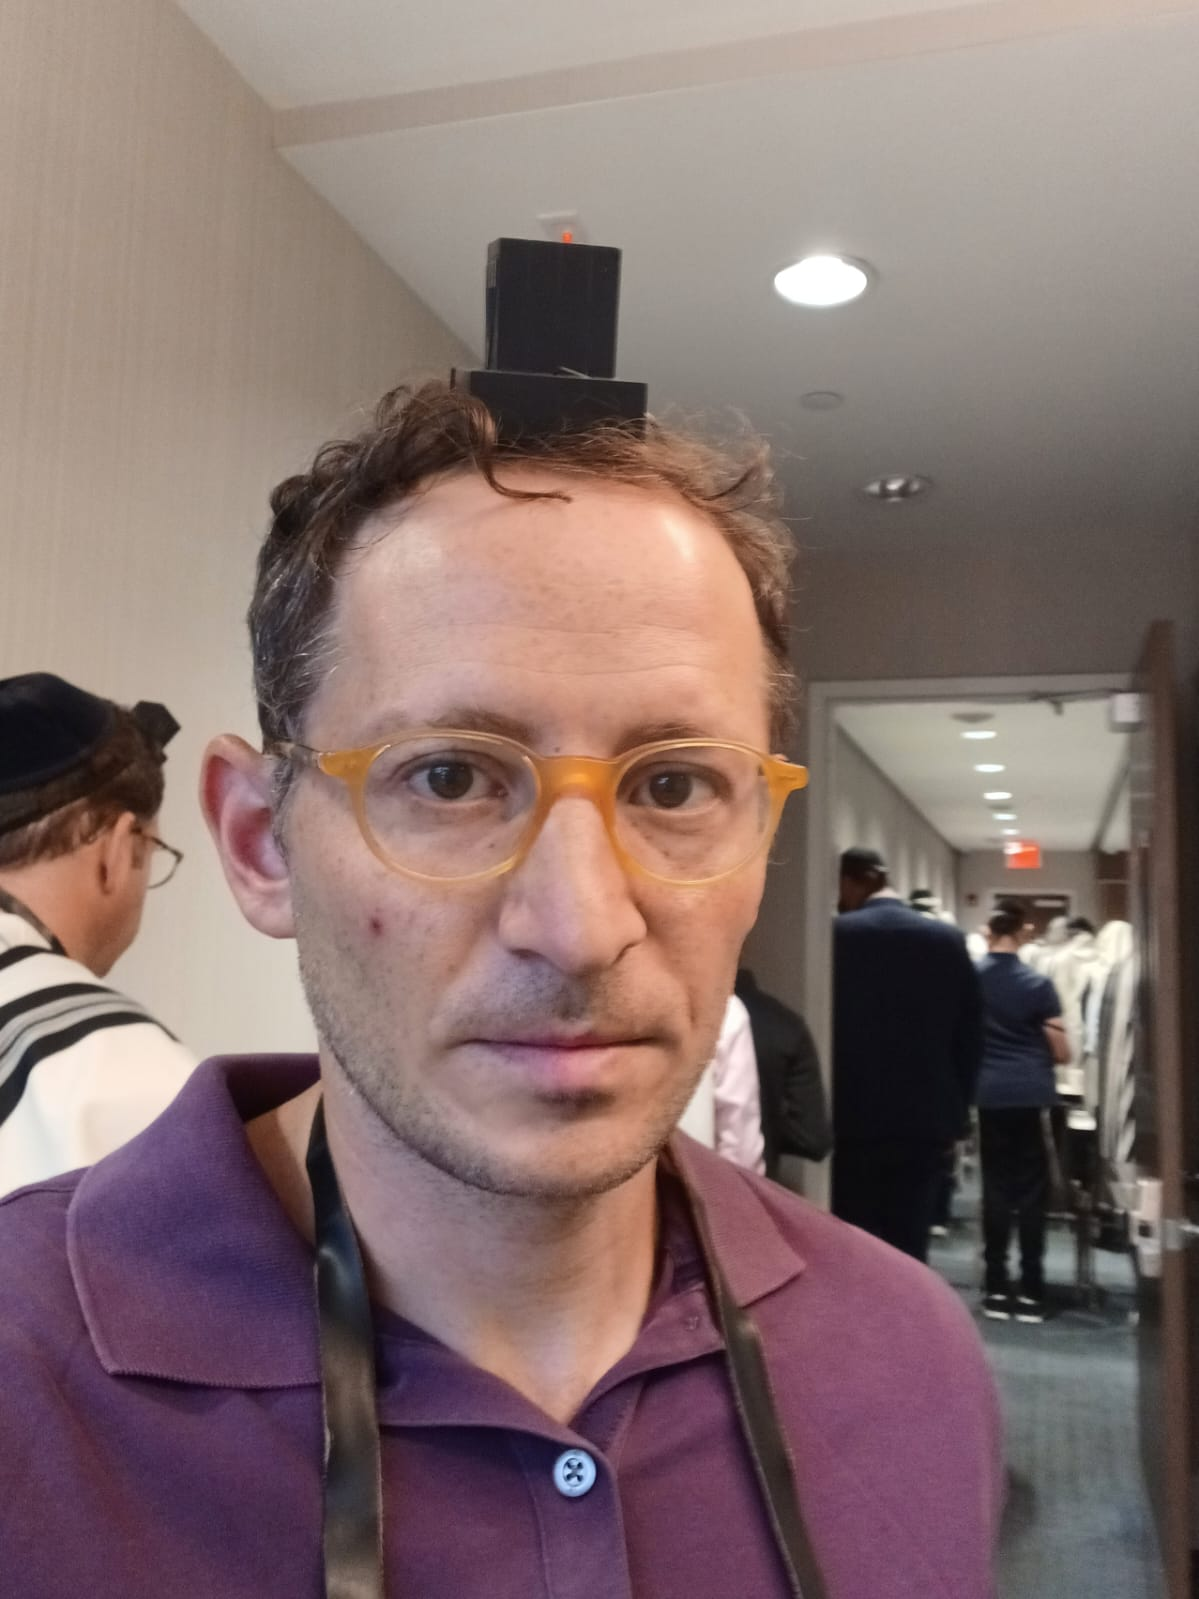tefillin: (462, 238, 652, 441), (122, 701, 181, 760)
